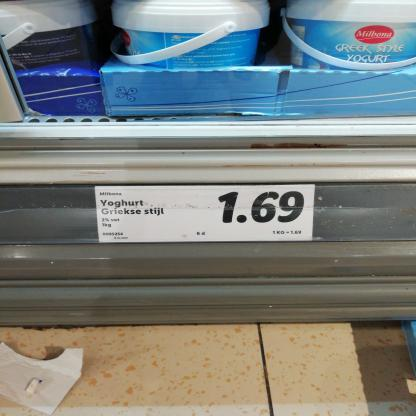prtg: (95, 186, 316, 244)
